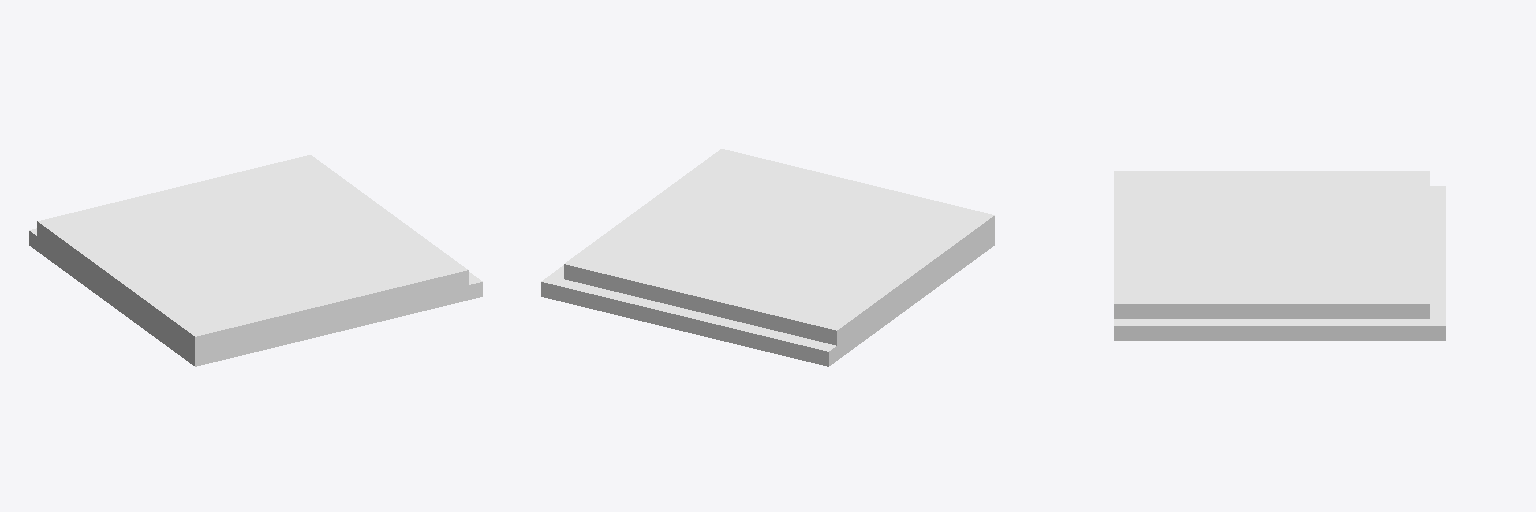
Rendered from sidewalkCracked.obj.
3 views of the same model, side by side, from view 1: azimuth 30°, elevation 25°; view 2: azimuth 150°, elevation 25°; view 3: azimuth 270°, elevation 25° (orthographic).
Parts seen in each view (by area): view 1: object 1; view 2: object 1; view 3: object 1.
Part boxes in pixels (left/top/right/bottom): object 1: left=29, top=155, right=482, bottom=366; object 1: left=541, top=149, right=994, bottom=366; object 1: left=1114, top=171, right=1445, bottom=340.
Size of the model in its own units: 4 by 0.4 by 4.